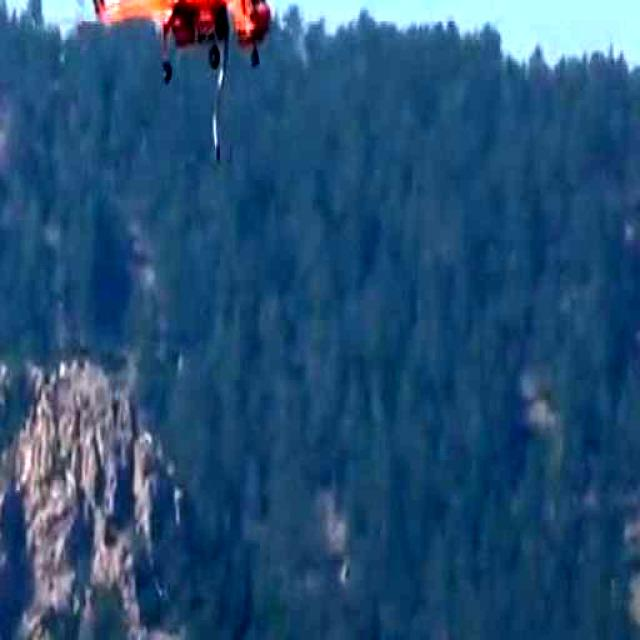drone: (72, 0, 308, 85)
